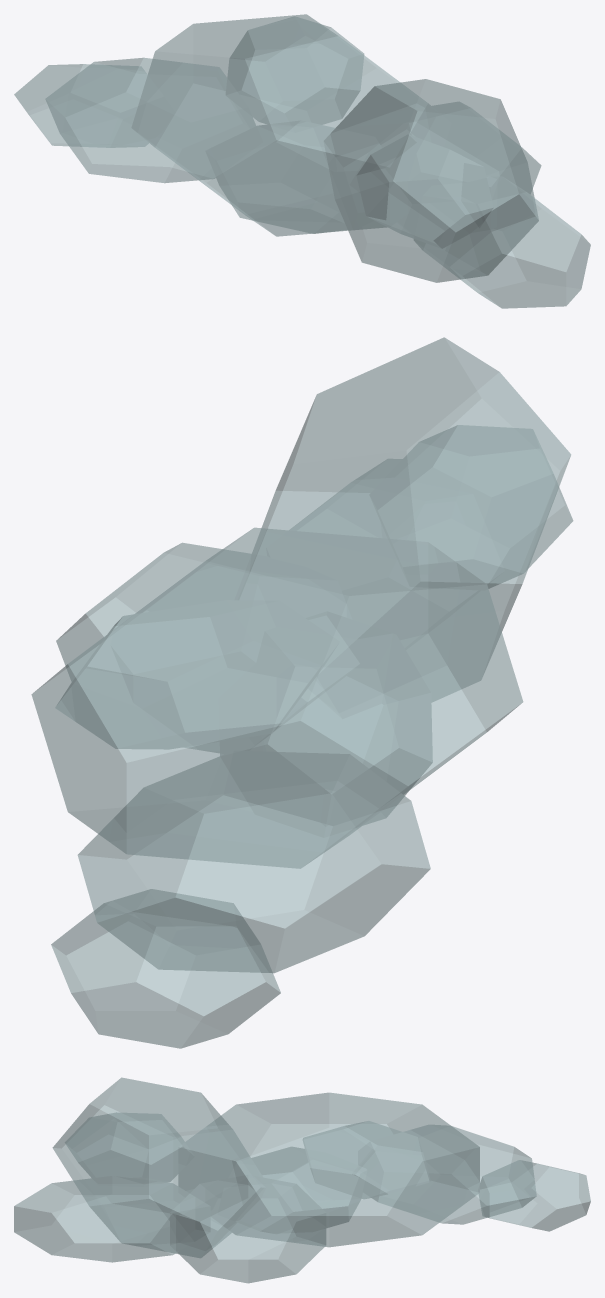
Rendered from Cloud-test.fbx.
The picture shows the model from 3 angles, top to bottom: view 1: azimuth 30°, elevation 25°; view 2: azimuth 150°, elevation 25°; view 3: azimuth 270°, elevation 25°; orthographic projection. The views are drawn at different scales.
Parts seen in each view (by area): view 1: group3; view 2: group3; view 3: group3.
Boxes of the visible parts, x1,y1,x2,y2 form: group3: [14, 14, 590, 308]; group3: [31, 337, 573, 1048]; group3: [14, 1077, 590, 1283].
Bounding box in the file's own units: 6.47 × 4.06 × 12.86.
